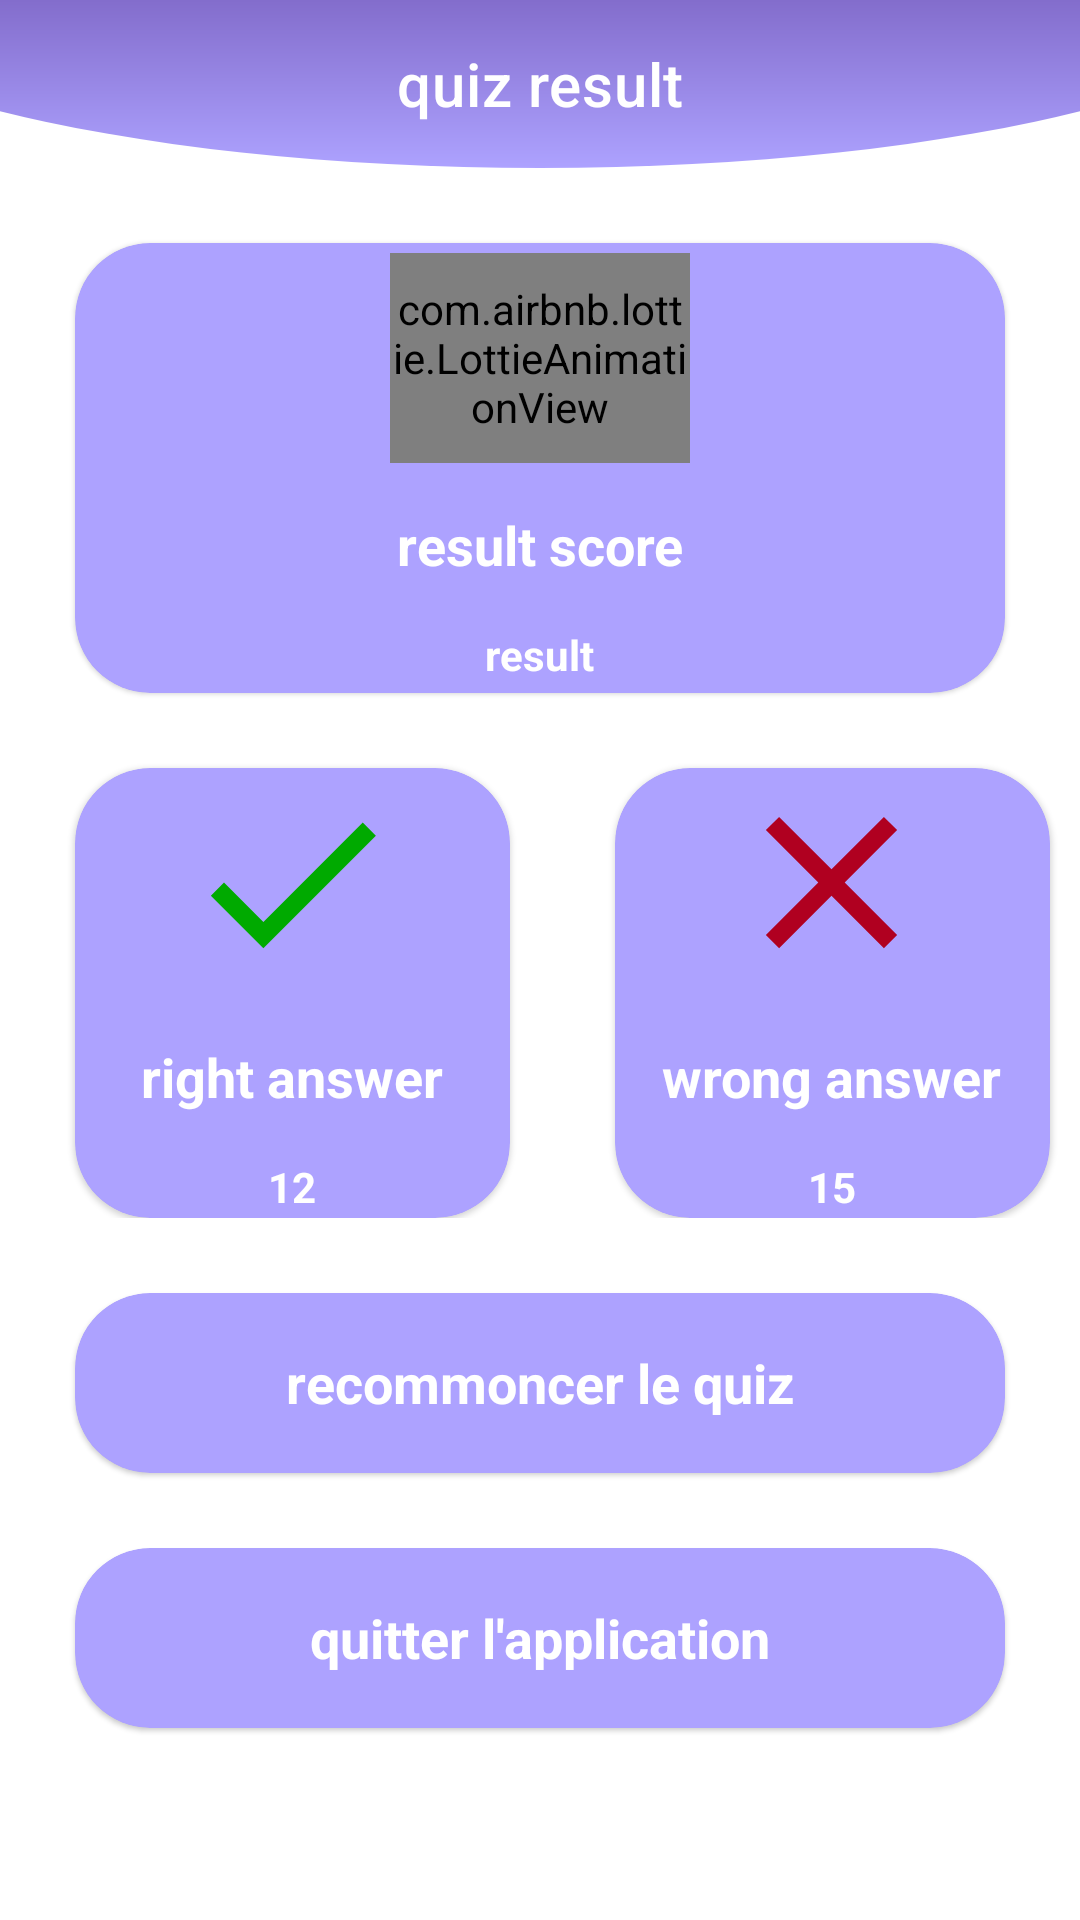

Named icons in this screenshot (1080 × 1920) and their bounding boxes, [left=x1, top=y1, right=x2, bottom=y2]:
is done: [left=211, top=822, right=376, bottom=948]
isnotdone: [left=766, top=817, right=897, bottom=948]
